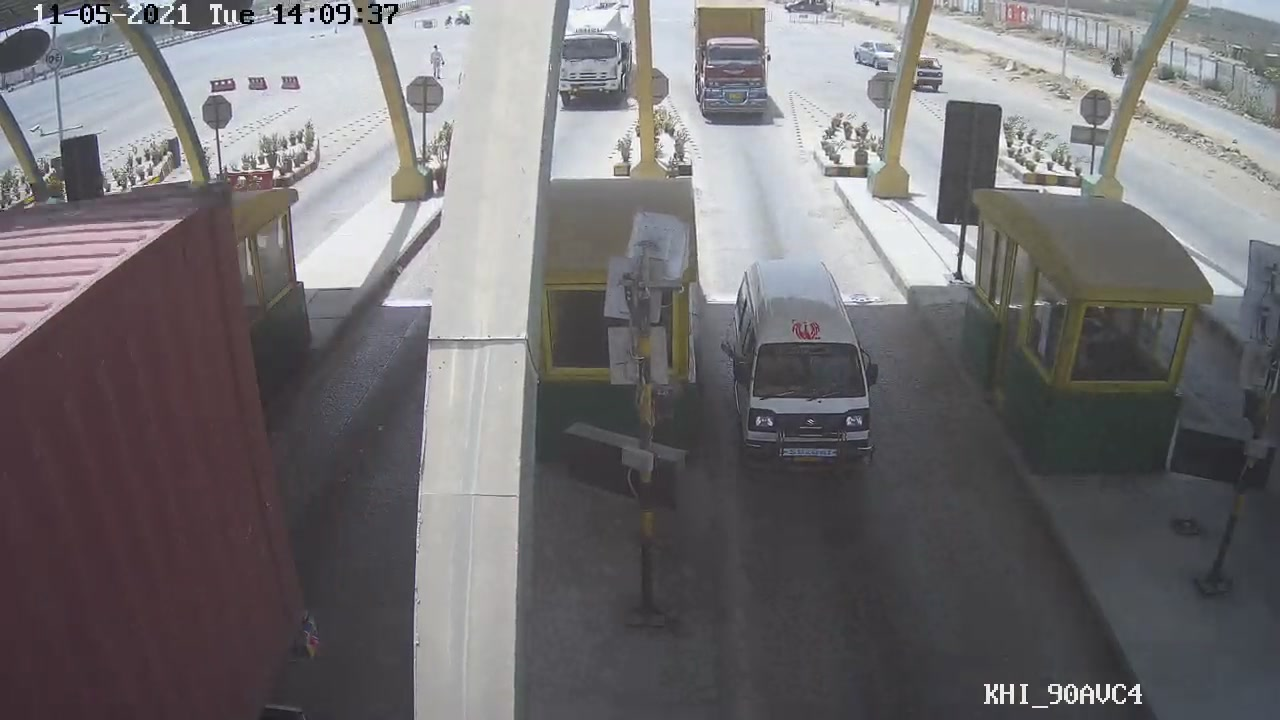F1: (719, 249, 888, 487)
